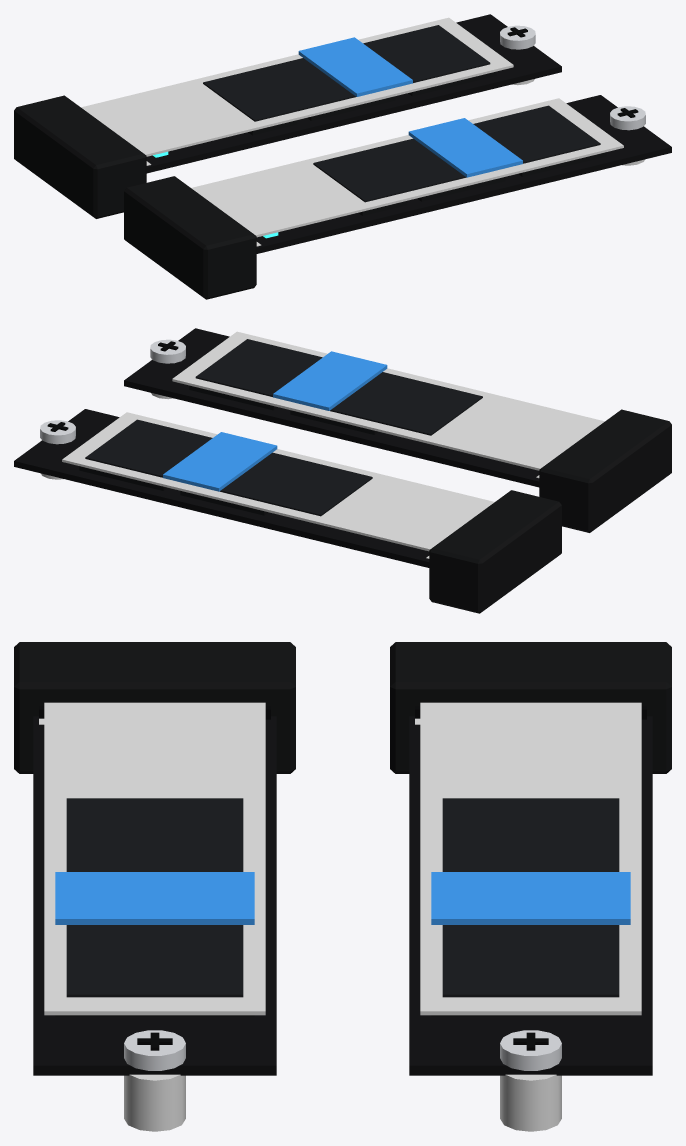
File: hwm_sto_nas_12tb.glb
3 views of the same model, one above another, from view 1: azimuth 30°, elevation 25°; view 2: azimuth 150°, elevation 25°; view 3: azimuth 270°, elevation 25° (orthographic). The views are drawn at different scales.
Visible parts, largest first — view 1: SSD_0, SSD_1, Slots, Screw_0, Screw_1; view 2: SSD_1, SSD_0, Slots, Screw_1, Screw_0; view 3: SSD_0, SSD_1, Slots, Screw_0, Screw_1.
Boxes of the visible parts, box(x1,y1,x2,y2) form: SSD_0: box(81, 14, 561, 173); SSD_1: box(191, 95, 671, 253); Slots: box(14, 45, 645, 299); Screw_0: box(500, 25, 535, 49); Screw_1: box(610, 106, 645, 130); SSD_1: box(124, 328, 604, 487); SSD_0: box(14, 409, 494, 567); Slots: box(40, 359, 671, 613); Screw_1: box(150, 339, 185, 363); Screw_0: box(40, 420, 75, 444); SSD_0: box(409, 702, 652, 1075); SSD_1: box(33, 702, 276, 1075); Slots: box(14, 642, 671, 1131); Screw_0: box(500, 1030, 561, 1070); Screw_1: box(124, 1030, 185, 1070).
Size of the model in its own units: 0.0855 by 0.0092 by 0.0595.
